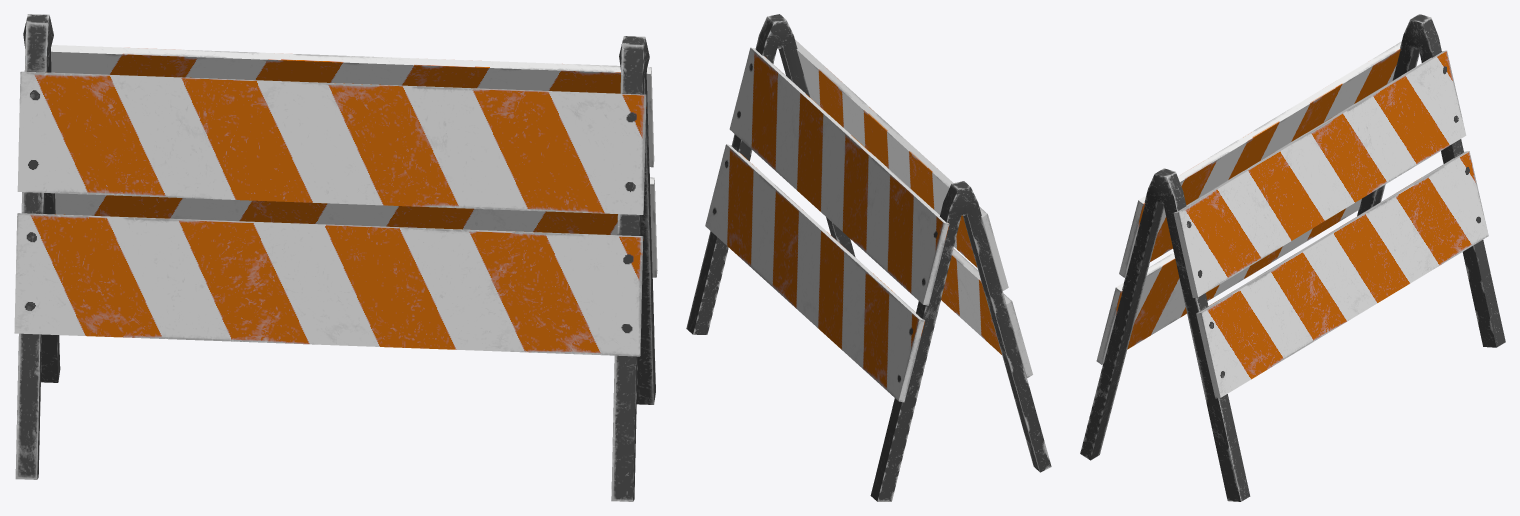
File: Highway_stuff.fbx
The picture shows the model from 3 angles, left to right: view 1: azimuth 30°, elevation 25°; view 2: azimuth 150°, elevation 25°; view 3: azimuth 270°, elevation 25°; orthographic projection. The views are drawn at different scales.
Parts seen in each view (by area): view 1: DP_HWS_RoadBarrier_1; view 2: DP_HWS_RoadBarrier_1; view 3: DP_HWS_RoadBarrier_1.
Part boxes in pixels (x1,y1,x2,y2): DP_HWS_RoadBarrier_1: (14, 14, 657, 501); DP_HWS_RoadBarrier_1: (686, 14, 1051, 501); DP_HWS_RoadBarrier_1: (1080, 14, 1505, 501).
Bounding box in the file's own units: 0.8045 × 0.5529 × 0.6978.
